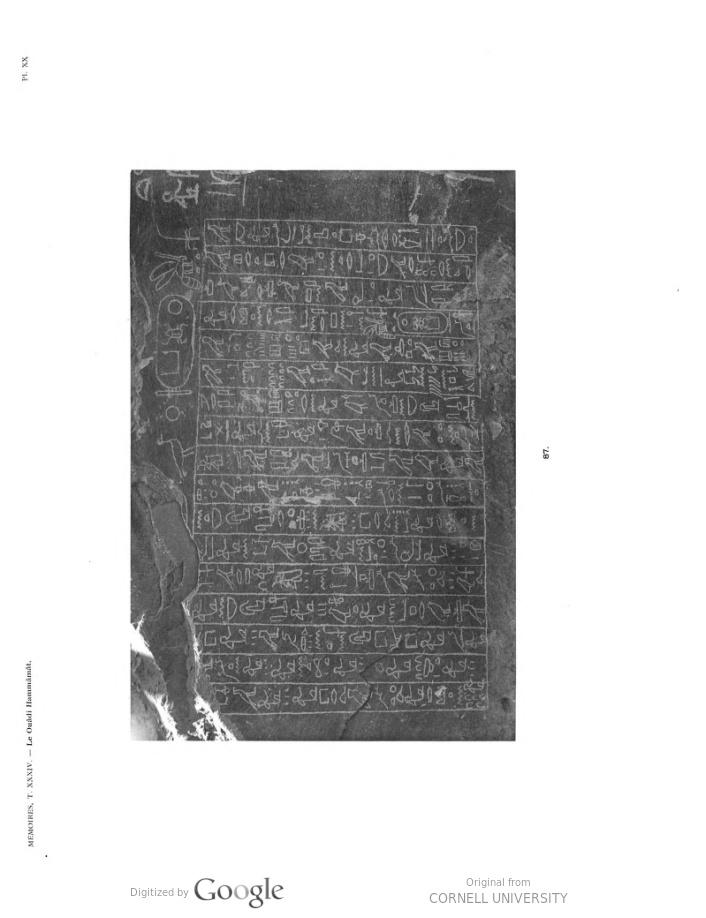circle: (144, 286, 202, 407), (384, 295, 468, 356)
